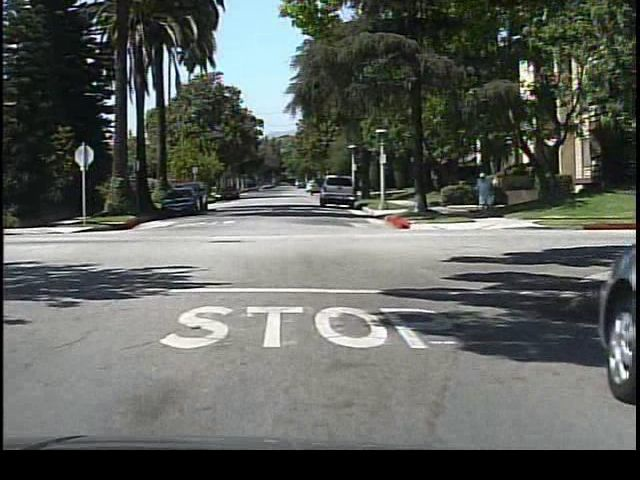person: (472, 168, 495, 217)
